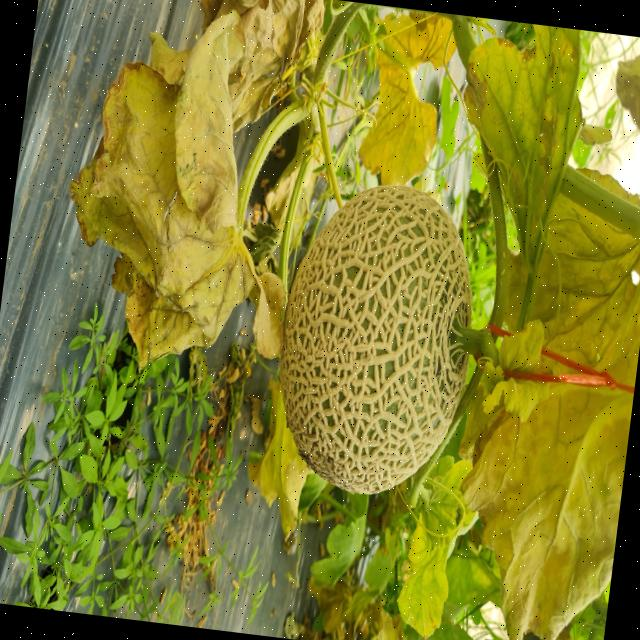melon: (278, 185, 470, 494)
